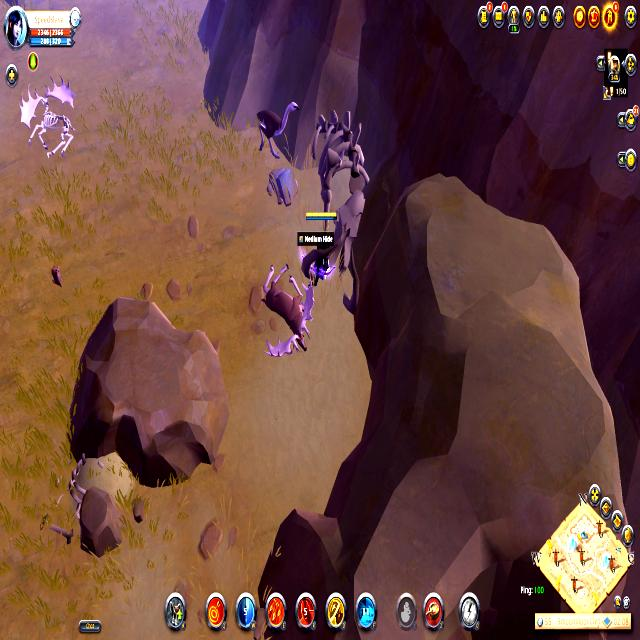mob: (260, 260, 319, 366)
ore: (250, 90, 304, 163)
red: (297, 211, 336, 293)
